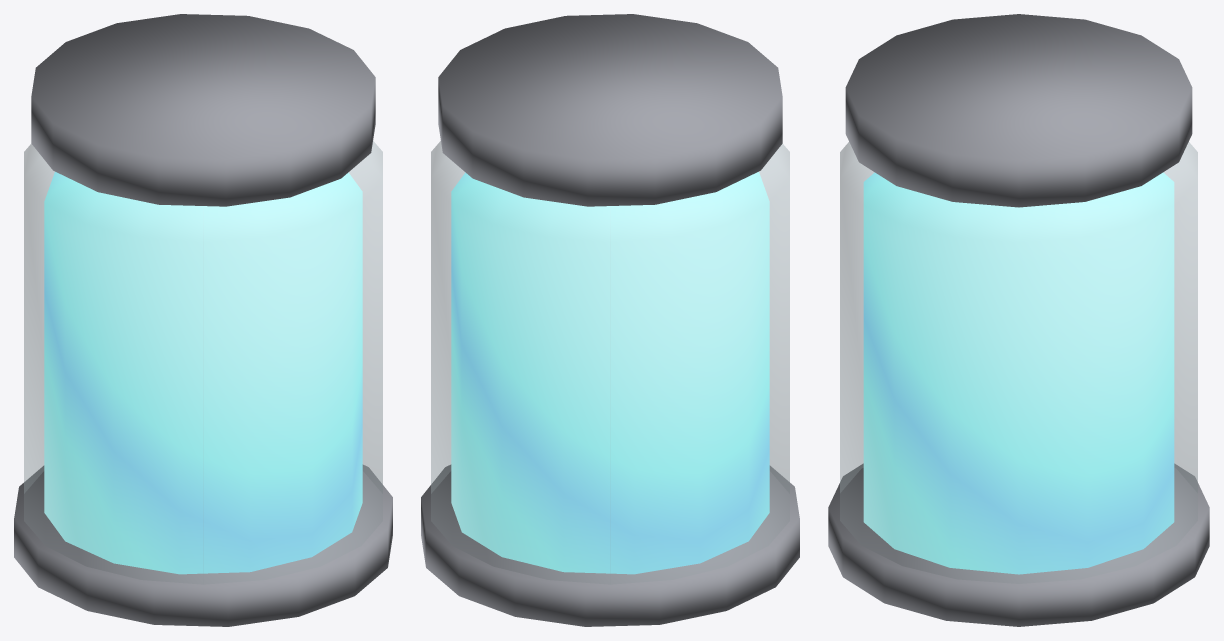
The model's file is specimen_jar_tentacle.glb.
3 renders of one model, left to right at view 1: azimuth 30°, elevation 25°; view 2: azimuth 150°, elevation 25°; view 3: azimuth 270°, elevation 25°, orthographic.
Parts seen in each view (by area): view 1: GD_specimen_jar_tentacle__m0, GD_specimen_jar_tentacle__m1, GD_specimen_jar_tentacle__m2; view 2: GD_specimen_jar_tentacle__m0, GD_specimen_jar_tentacle__m1, GD_specimen_jar_tentacle__m2; view 3: GD_specimen_jar_tentacle__m0, GD_specimen_jar_tentacle__m1, GD_specimen_jar_tentacle__m2.
Boxes of the visible parts, x1,y1,x2,y2 form: GD_specimen_jar_tentacle__m0: [24, 141, 382, 584]; GD_specimen_jar_tentacle__m1: [44, 172, 362, 574]; GD_specimen_jar_tentacle__m2: [14, 14, 392, 626]; GD_specimen_jar_tentacle__m0: [431, 141, 789, 584]; GD_specimen_jar_tentacle__m1: [451, 172, 769, 574]; GD_specimen_jar_tentacle__m2: [421, 14, 799, 626]; GD_specimen_jar_tentacle__m0: [840, 142, 1197, 583]; GD_specimen_jar_tentacle__m1: [863, 172, 1174, 574]; GD_specimen_jar_tentacle__m2: [828, 14, 1209, 626].
Size of the model in its own units: 0.22 by 0.2925 by 0.22.
